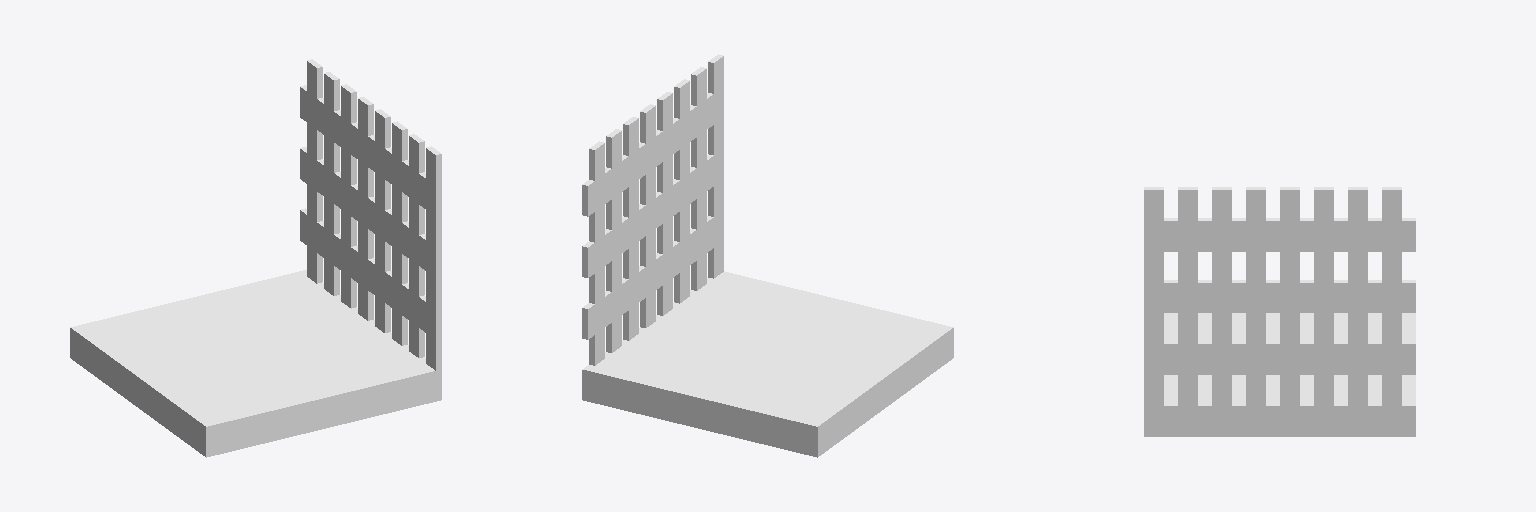
The model's file is Zabor.obj.
The picture shows the model from 3 angles: view 1: azimuth 30°, elevation 25°; view 2: azimuth 150°, elevation 25°; view 3: azimuth 270°, elevation 25°; orthographic projection.
Parts seen in each view (by area): view 1: object 1; view 2: object 1; view 3: object 1.
Part boxes in pixels (bbox=[...]): object 1: bbox=[70, 59, 441, 457]; object 1: bbox=[582, 54, 953, 457]; object 1: bbox=[1144, 187, 1415, 436].
Size of the model in its own units: 4 by 4 by 4.